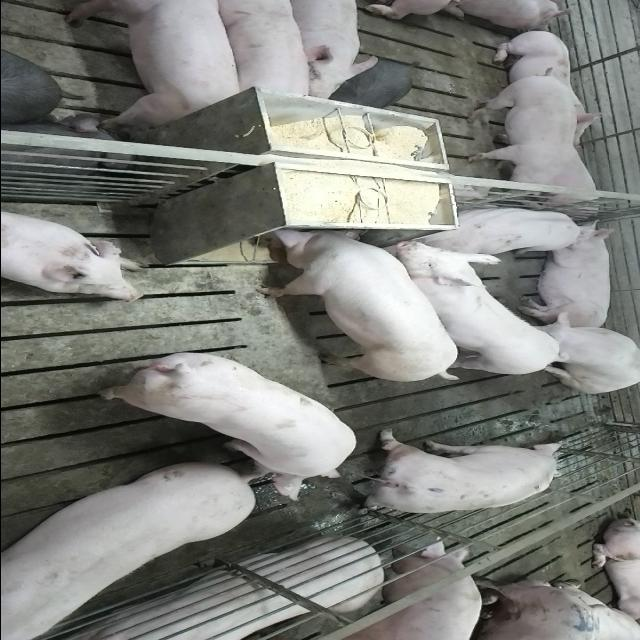Feeding: (242, 220, 462, 380)
Lateral_lying: (47, 538, 453, 640), (512, 223, 616, 329)
Sitting: (509, 311, 639, 394)
Standing: (0, 466, 258, 640), (93, 356, 354, 504), (380, 242, 563, 380), (62, 1, 248, 130), (345, 431, 566, 516), (324, 541, 478, 640), (464, 72, 576, 200), (208, 3, 313, 106), (282, 3, 378, 107)
Sternal_lying: (486, 31, 612, 146), (0, 206, 147, 302)
